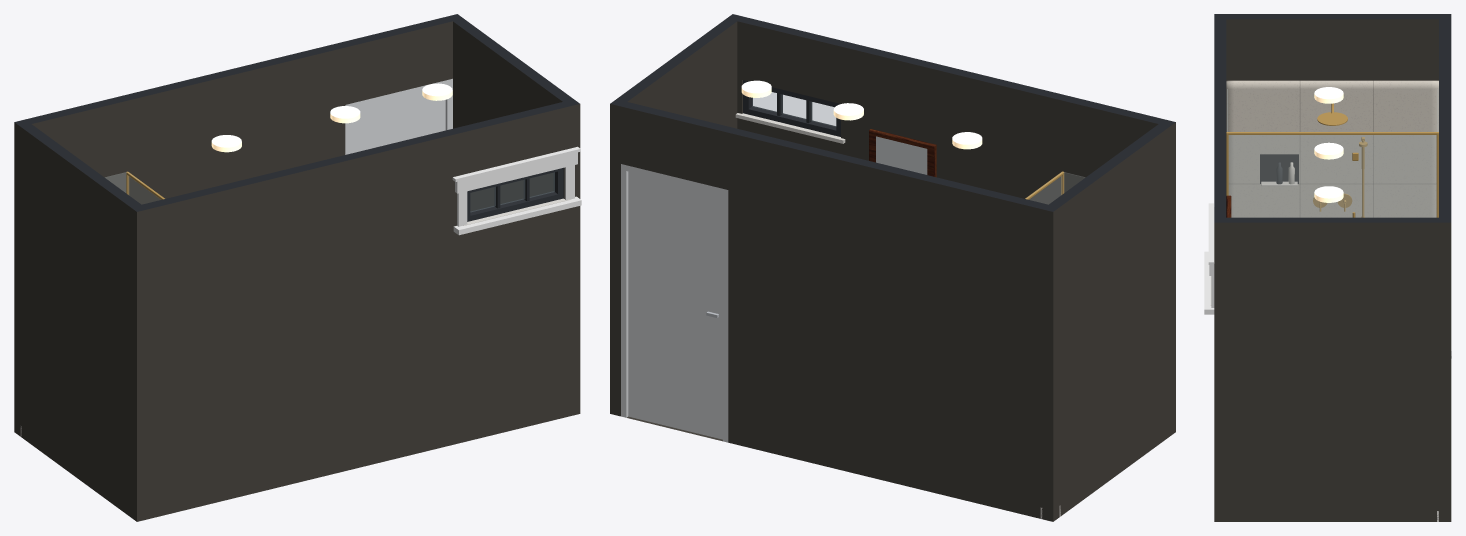
Rendered from baño_1.glb.
The picture shows the model from 3 angles, left to right: view 1: azimuth 30°, elevation 25°; view 2: azimuth 150°, elevation 25°; view 3: azimuth 270°, elevation 25°; orthographic projection. The views are drawn at different scales.
Parts seen in each view (by area): view 1: Wall p0mvyo8lxsi1 (×3), Wall rvovpw3uxsi1 (×2), Wall 30hxmo86xsi1, Wall it7fhysixsi1, Opening trim, Item icwwv2pmxsi1; view 2: Wall rvovpw3uxsi1 (×4), Wall 30hxmo86xsi1, Wall p0mvyo8lxsi1 (×4), Wall it7fhysixsi1, Item gwb8io3mxsi2 (×2), Item icwwv2pmxsi1; view 3: Wall it7fhysixsi1, Item icwwv2pmxsi1 (×5), Wall 30hxmo86xsi1, Wall rvovpw3uxsi1, Wall p0mvyo8lxsi1, Opening trim, Item u630fvc3xsi2, Item 9ey9pf96xsi2, Item tfmt4ym6xsi2.
Boxes of the visible parts, x1=… form: Wall p0mvyo8lxsi1 (×3): x1=137, y1=102, x2=580, y2=521; Wall rvovpw3uxsi1 (×2): x1=14, y1=14, x2=463, y2=436; Wall 30hxmo86xsi1: x1=14, y1=120, x2=141, y2=521; Wall it7fhysixsi1: x1=452, y1=14, x2=579, y2=211; Opening trim: x1=452, y1=146, x2=581, y2=235; Item icwwv2pmxsi1: x1=105, y1=172, x2=160, y2=204; Wall rvovpw3uxsi1 (×4): x1=610, y1=99, x2=1059, y2=521; Wall 30hxmo86xsi1: x1=1042, y1=122, x2=1175, y2=521; Wall p0mvyo8lxsi1 (×4): x1=733, y1=14, x2=1175, y2=204; Wall it7fhysixsi1: x1=610, y1=14, x2=737, y2=415; Item gwb8io3mxsi2 (×2): x1=869, y1=129, x2=936, y2=177; Item icwwv2pmxsi1: x1=1029, y1=172, x2=1084, y2=204; Wall it7fhysixsi1: x1=1214, y1=217, x2=1451, y2=521; Item icwwv2pmxsi1 (×5): x1=1226, y1=80, x2=1438, y2=217; Wall 30hxmo86xsi1: x1=1215, y1=14, x2=1451, y2=80; Wall rvovpw3uxsi1: x1=1439, y1=14, x2=1451, y2=521; Wall p0mvyo8lxsi1: x1=1214, y1=14, x2=1226, y2=222; Opening trim: x1=1204, y1=203, x2=1214, y2=314; Item u630fvc3xsi2: x1=1314, y1=142, x2=1343, y2=159; Item 9ey9pf96xsi2: x1=1314, y1=186, x2=1343, y2=202; Item tfmt4ym6xsi2: x1=1314, y1=87, x2=1343, y2=103.
Bounding box in the file's own units: 4.04 × 2.7 × 2.02.
Materials: 52 (6 with a texture image).
